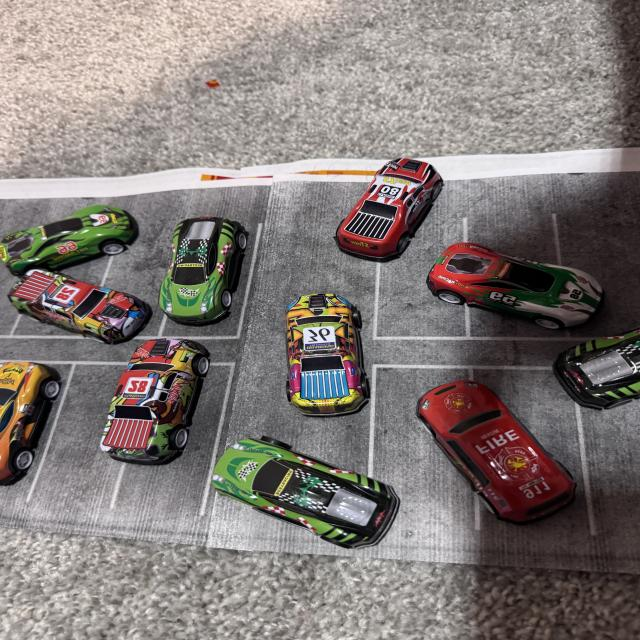car: (388, 353, 558, 568), (6, 344, 212, 516), (299, 150, 465, 278), (215, 437, 376, 565), (430, 229, 600, 329), (266, 276, 374, 432), (518, 266, 640, 398), (160, 202, 276, 308), (0, 195, 150, 267), (8, 278, 160, 342), (0, 372, 77, 482)
